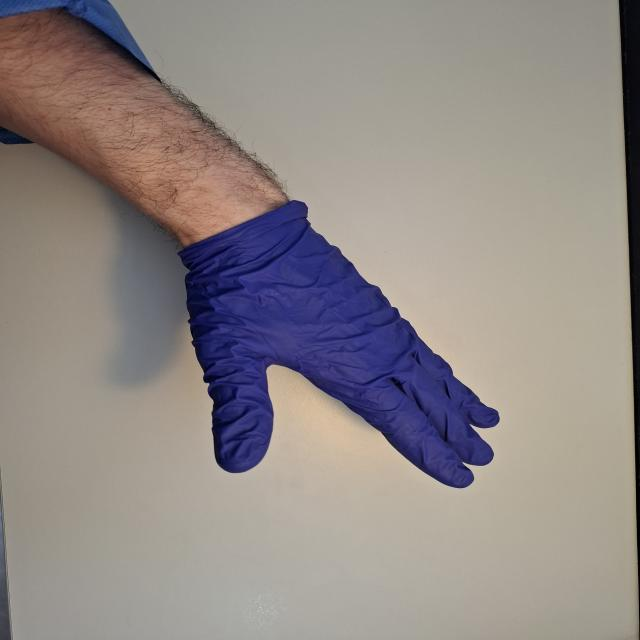glove_on: (178, 197, 504, 492)
